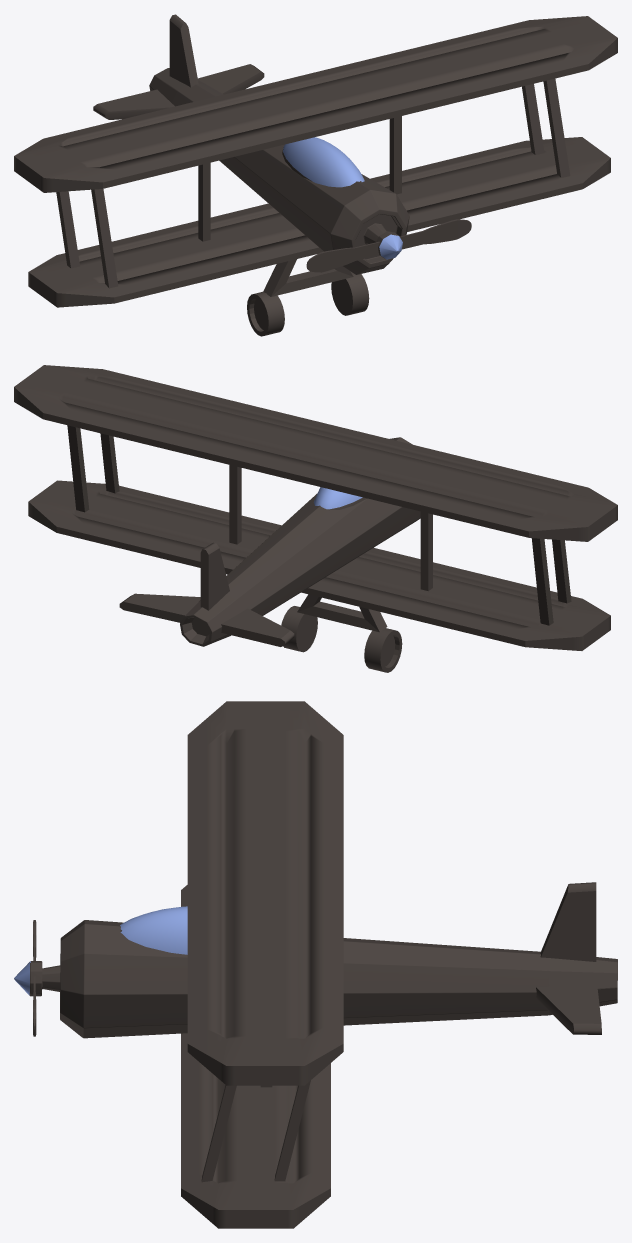
The model's file is Flight.glb.
3 views of the same model, one above another, from view 1: azimuth 30°, elevation 25°; view 2: azimuth 150°, elevation 25°; view 3: azimuth 270°, elevation 25° (orthographic). The views are drawn at different scales.
Parts seen in each view (by area): view 1: pCube34; view 2: pCube34; view 3: pCube34.
Part boxes in pixels (left/top/right/bottom): pCube34: left=14, top=14, right=617, bottom=336; pCube34: left=14, top=365, right=617, bottom=672; pCube34: left=14, top=701, right=617, bottom=1228.
Size of the model in its own units: 4.96 by 1.78 by 3.47.
